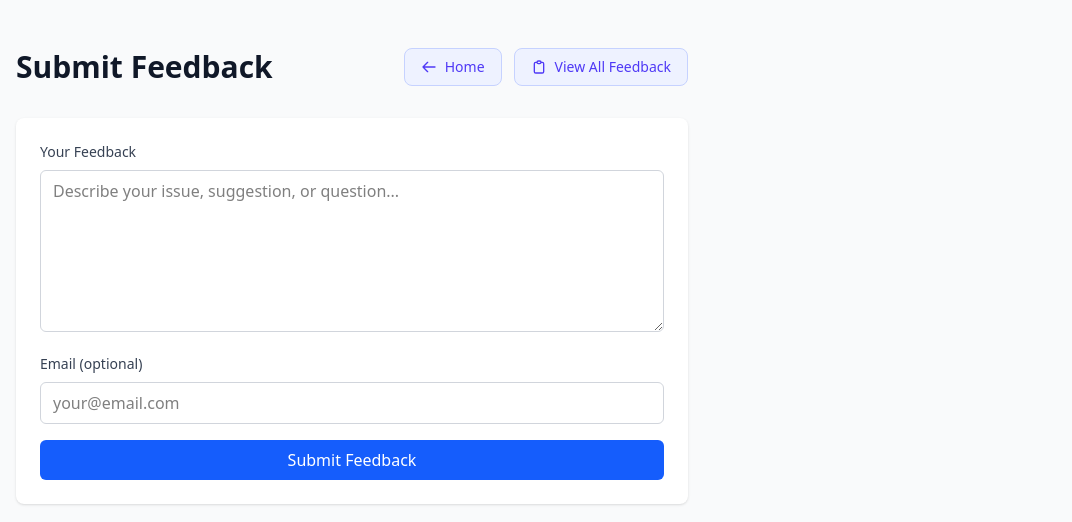
Scenario: SubmitFeedback Page › should submit feedback successfully
Type "This is my feedback" into the text box labelled "Your Feedback" at coordinates (352, 251), box [40,170,664,332]
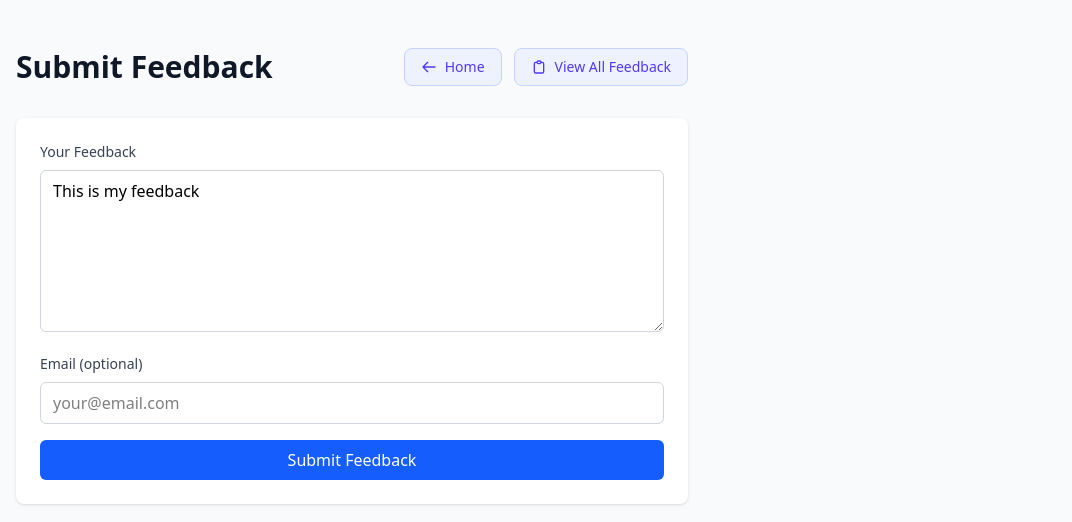
Click the button "Submit Feedback" at coordinates (352, 460), box [40,440,664,480]
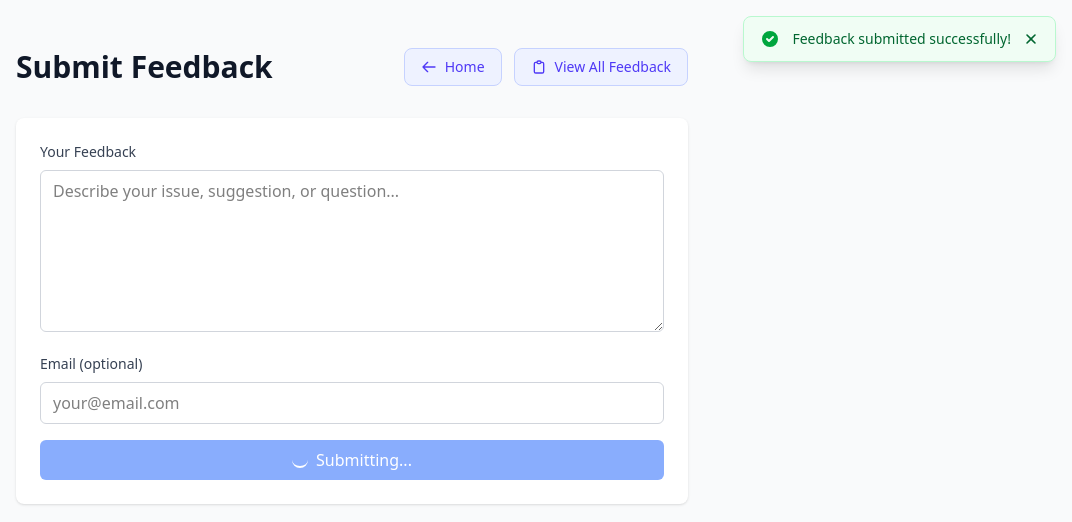
Expected: the text "Feedback submitted successfully!" is shown, [792,29,1011,49]
Expected: the text box labelled "Your Feedback" is empty, [40,170,664,332]
